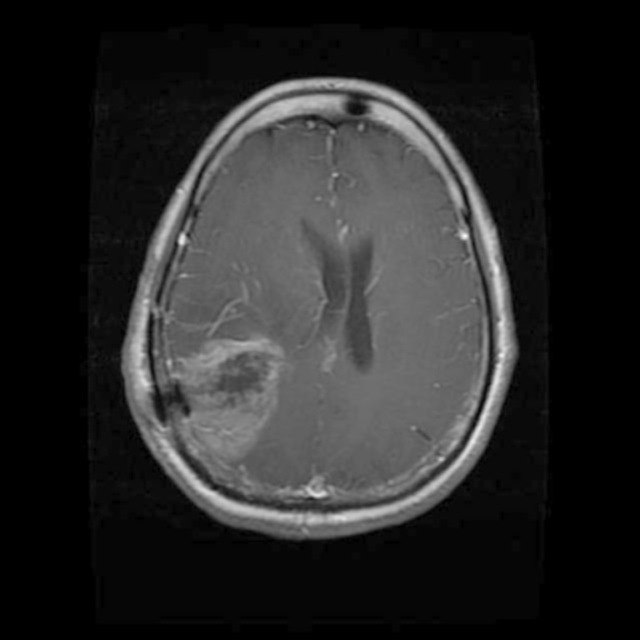pituitary tumor: (174, 338, 282, 462)
